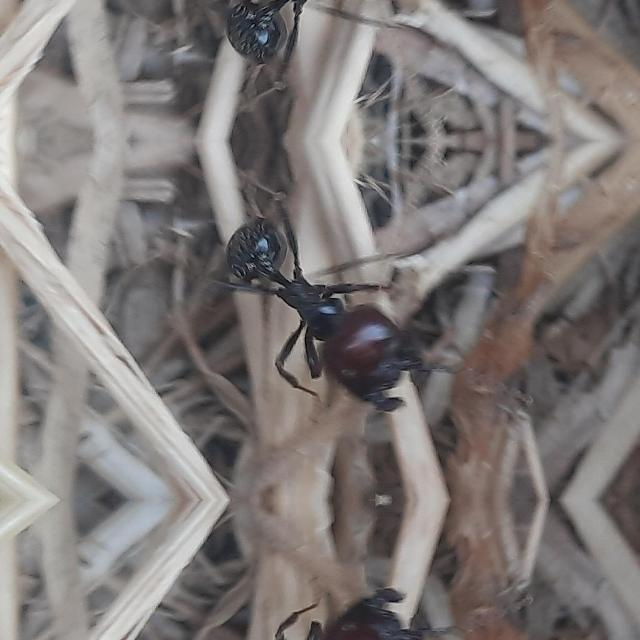Messor: (201, 204, 444, 420), (200, 0, 443, 75), (200, 579, 443, 640)
